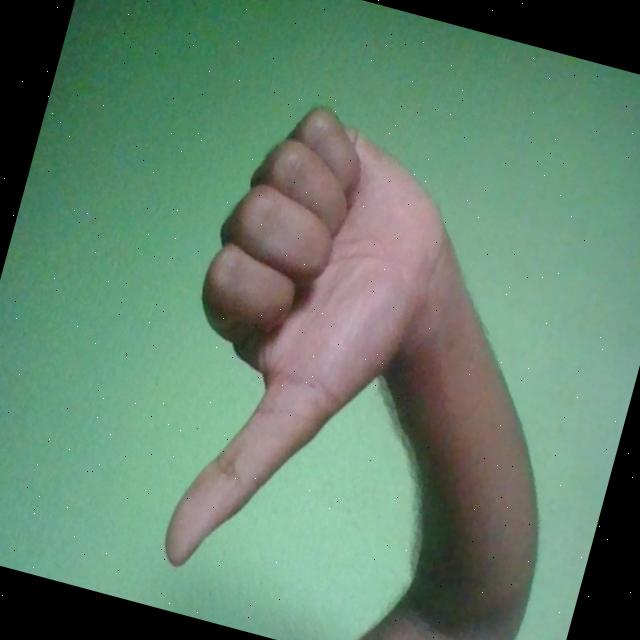Dislike: (132, 85, 468, 610)
